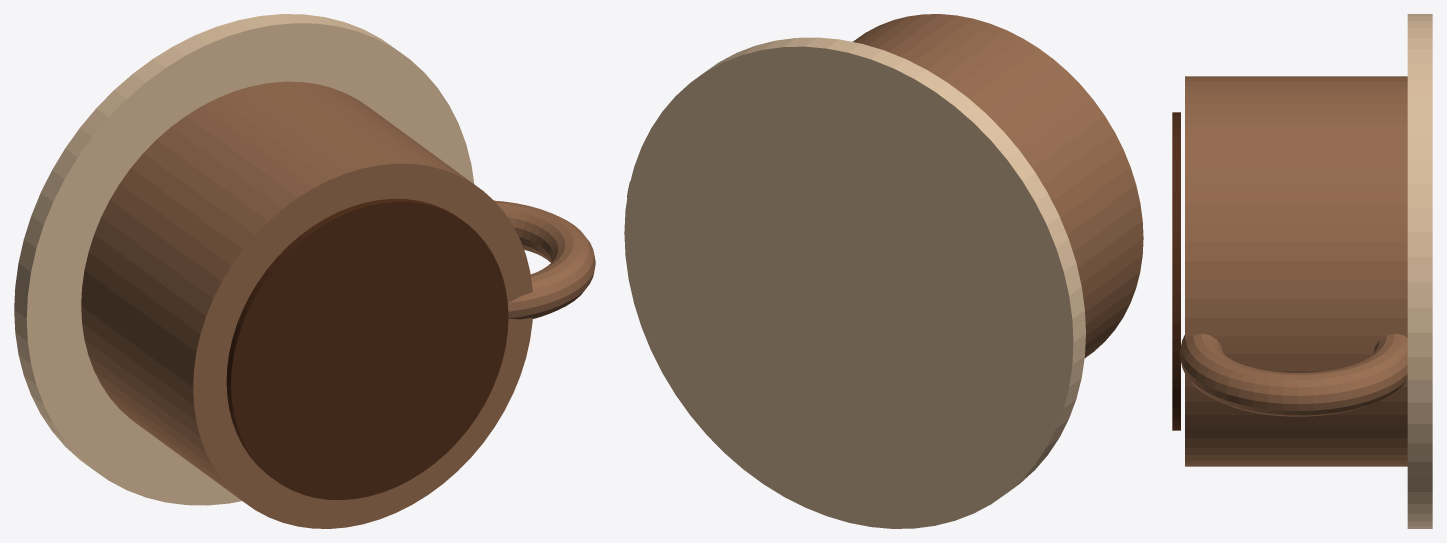
The model's file is Cafe_Bourbon_3D.glb.
The picture shows the model from 3 angles, left to right: view 1: azimuth 30°, elevation 25°; view 2: azimuth 150°, elevation 25°; view 3: azimuth 270°, elevation 25°; orthographic projection.
Visible parts, largest first — view 1: world; view 2: world; view 3: world.
Boxes of the visible parts, x1,y1,x2,y2 form: world: (14,14,595,528); world: (624,14,1143,528); world: (1172,14,1432,528).
Bounding box in the file's own units: 3.66 × 3.3 × 1.67.
